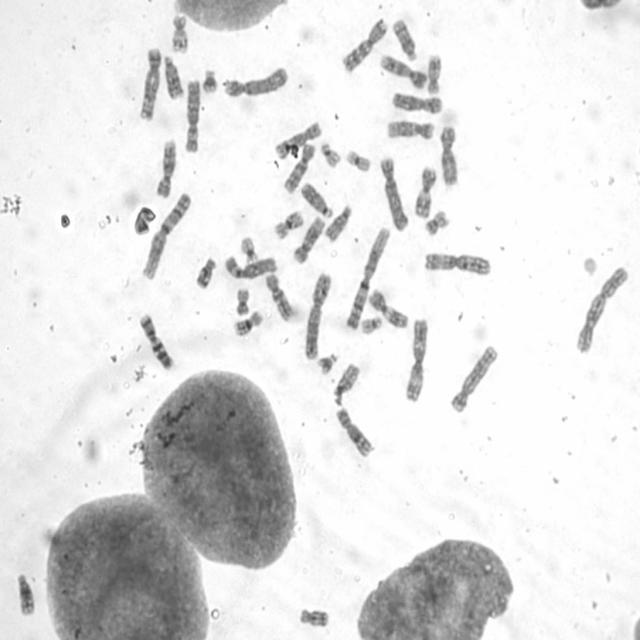A1: (345, 226, 391, 331), (141, 191, 192, 281)
A2: (576, 266, 630, 354), (304, 271, 332, 361)
A3: (404, 317, 428, 403), (423, 251, 491, 276)
B4: (379, 156, 409, 232), (223, 66, 289, 98)
B5: (450, 345, 498, 413), (138, 47, 162, 122)
C10: (283, 143, 316, 193), (265, 274, 295, 322)
C11: (368, 288, 408, 328), (414, 165, 437, 219)
C12: (292, 215, 325, 265), (387, 119, 435, 140)
C6: (224, 254, 278, 280), (184, 78, 201, 154)
C7: (342, 17, 388, 73), (138, 313, 174, 370)
C8: (335, 406, 372, 458), (274, 120, 322, 160)
C9: (379, 53, 427, 90), (156, 138, 177, 198)
D13: (300, 181, 334, 219), (163, 54, 185, 101)
D14: (391, 18, 418, 62), (16, 573, 35, 616)
D15: (332, 362, 360, 407), (323, 204, 352, 244)
E16: (274, 210, 304, 240), (232, 309, 264, 337)
E17: (170, 13, 188, 54), (427, 54, 442, 96)
E18: (195, 256, 218, 289), (299, 607, 329, 628)
F19: (345, 148, 372, 172), (240, 236, 260, 266)
F20: (424, 210, 450, 236), (236, 287, 250, 317)
G21: (316, 352, 337, 376), (201, 68, 219, 94)
G22: (320, 143, 341, 168), (360, 315, 383, 336)
X: (438, 124, 458, 186), (392, 91, 442, 115)
